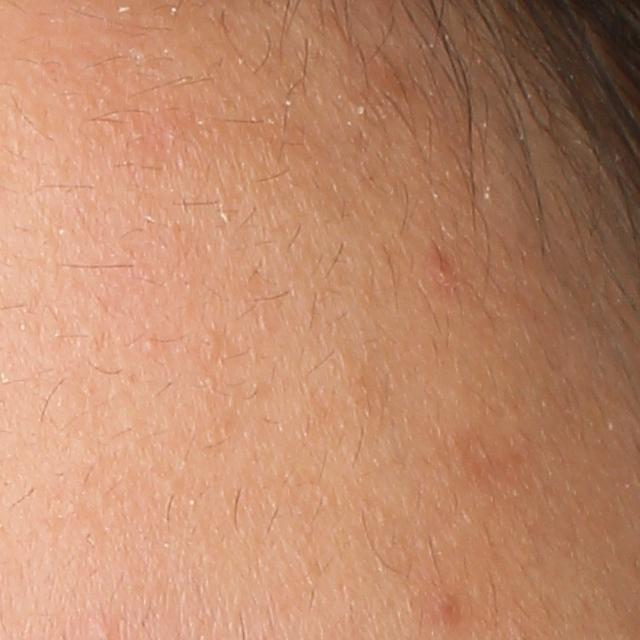comedo: (198, 330, 221, 364), (139, 329, 162, 356)
